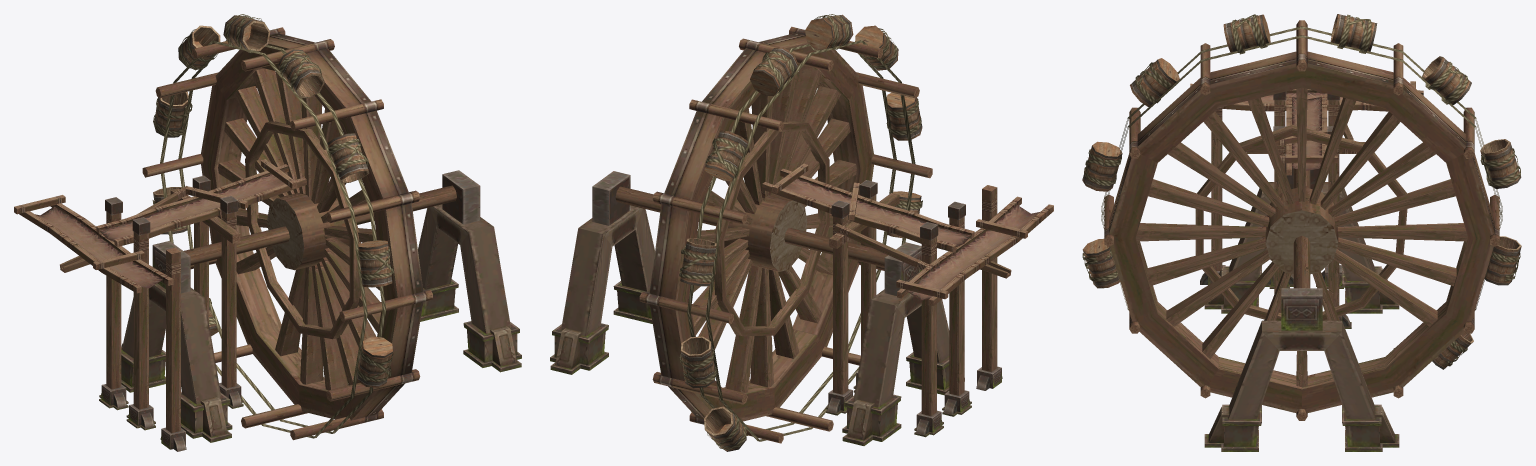
The model's file is xzl_building_shuiche01_w.FBX.
3 renders of one model, left to right at view 1: azimuth 30°, elevation 25°; view 2: azimuth 150°, elevation 25°; view 3: azimuth 270°, elevation 25°, orthographic. The views are drawn at different scales.
Visible parts, largest first — view 1: xzl_building_shuiche01_w; view 2: xzl_building_shuiche01_w; view 3: xzl_building_shuiche01_w.
Boxes of the visible parts, bbox=[...] form: xzl_building_shuiche01_w: bbox=[14, 14, 521, 451]; xzl_building_shuiche01_w: bbox=[550, 14, 1053, 451]; xzl_building_shuiche01_w: bbox=[1082, 14, 1521, 451].
Size of the model in its own units: 808 by 722 by 754.
